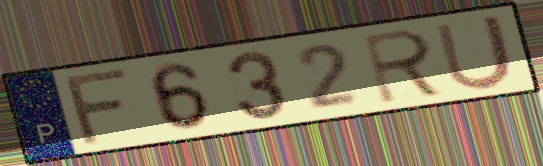2: (297, 41, 364, 113)
3: (225, 49, 289, 122)
6: (146, 60, 214, 133)
F: (63, 65, 135, 149)
R: (359, 26, 449, 106)
U: (431, 11, 517, 93)
